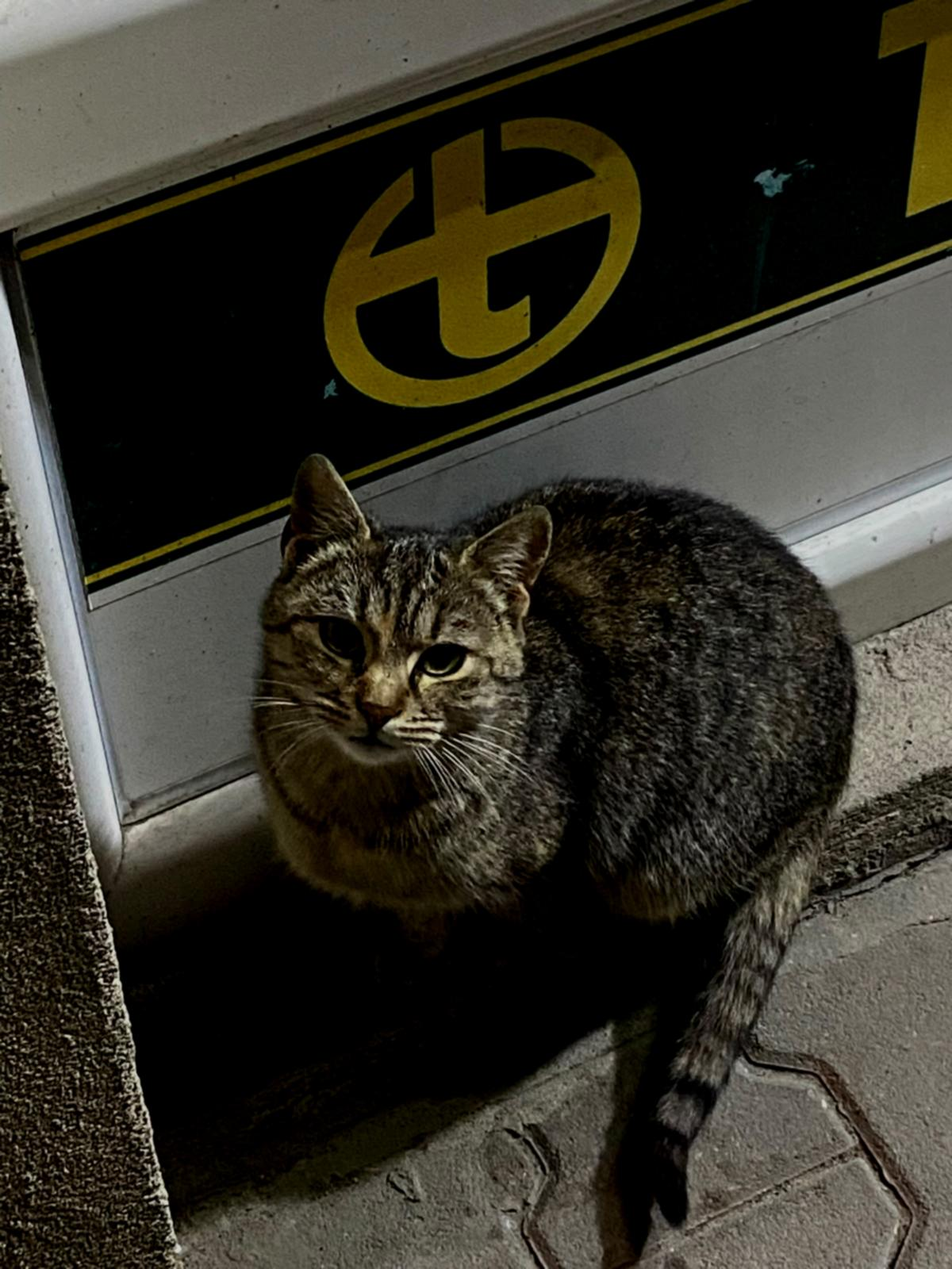macka: (252, 449, 865, 1227)
